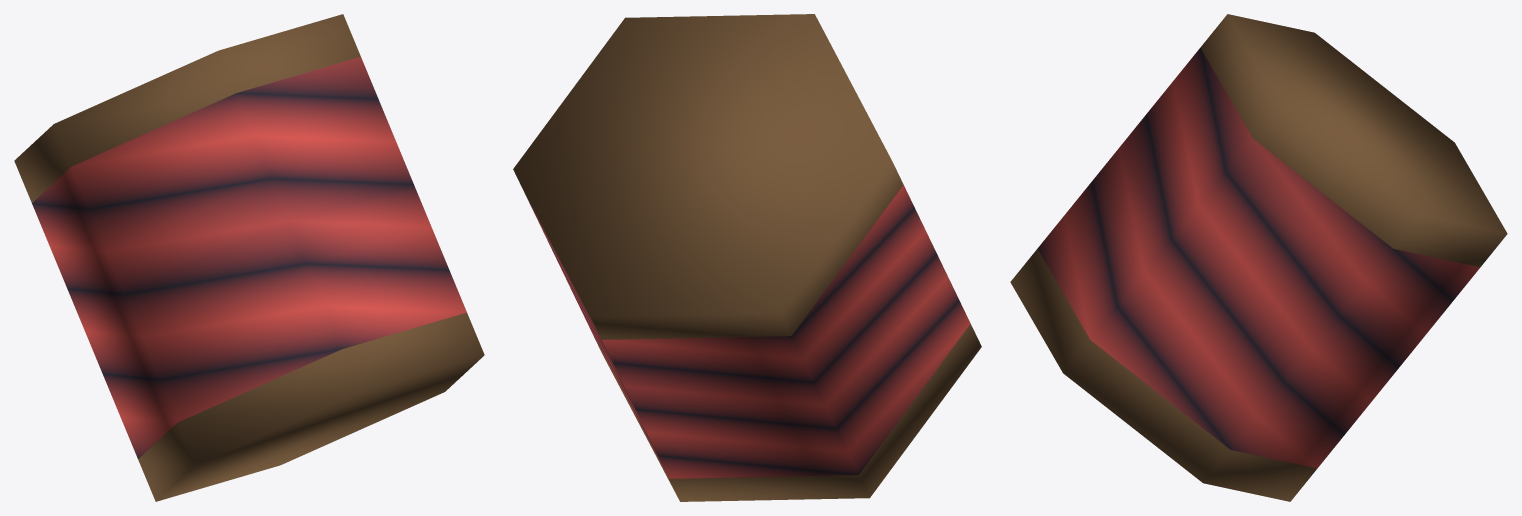
File: girth_wire.glb
3 views of the same model, side by side, from view 1: azimuth 30°, elevation 25°; view 2: azimuth 150°, elevation 25°; view 3: azimuth 270°, elevation 25° (orthographic). The views are drawn at different scales.
Visible parts, largest first — view 1: Cube; view 2: Cube; view 3: Cube.
Boxes of the visible parts, bbox=[...] form: Cube: bbox=[14, 14, 484, 501]; Cube: bbox=[513, 14, 981, 501]; Cube: bbox=[1010, 14, 1507, 501].
Size of the model in its own units: 2.07 by 2.74 by 2.79.
